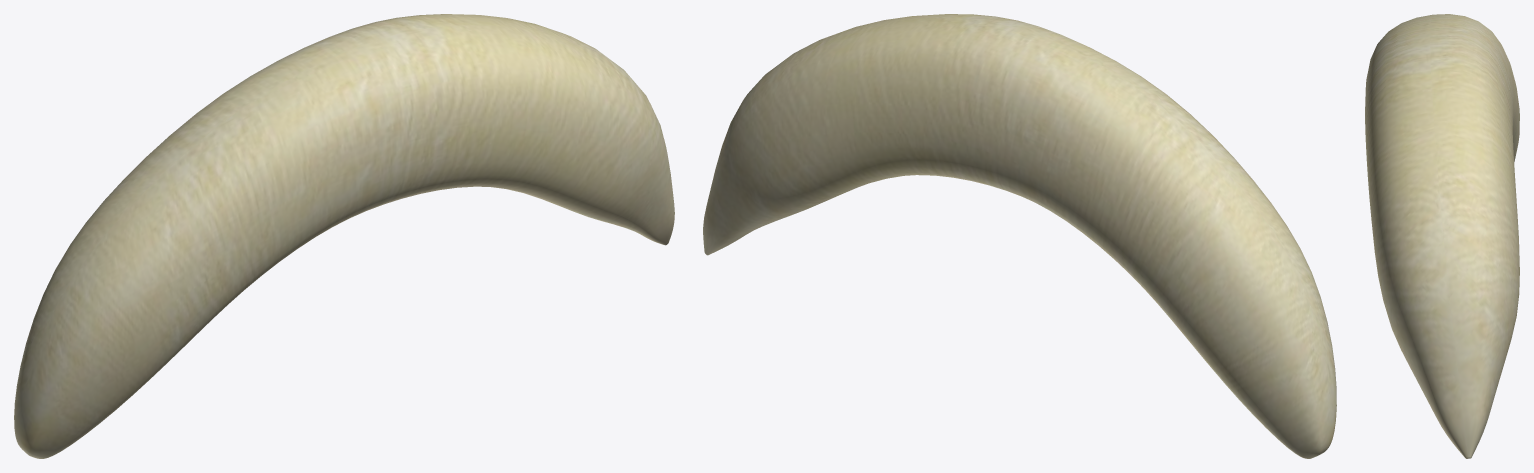
Rendered from BrownBananaFlesh.obj.
3 views of the same model, side by side, from view 1: azimuth 30°, elevation 25°; view 2: azimuth 150°, elevation 25°; view 3: azimuth 270°, elevation 25° (orthographic). The views are drawn at different scales.
Parts seen in each view (by area): view 1: BrownBananaFlesh; view 2: BrownBananaFlesh; view 3: BrownBananaFlesh.
Part boxes in pixels (bbox=[...]): BrownBananaFlesh: bbox=[14, 14, 674, 458]; BrownBananaFlesh: bbox=[703, 14, 1336, 458]; BrownBananaFlesh: bbox=[1365, 14, 1519, 458].
Size of the model in its own units: 0.1763 by 0.0918 by 0.0387.
Materials: 1 (1 with a texture image).
